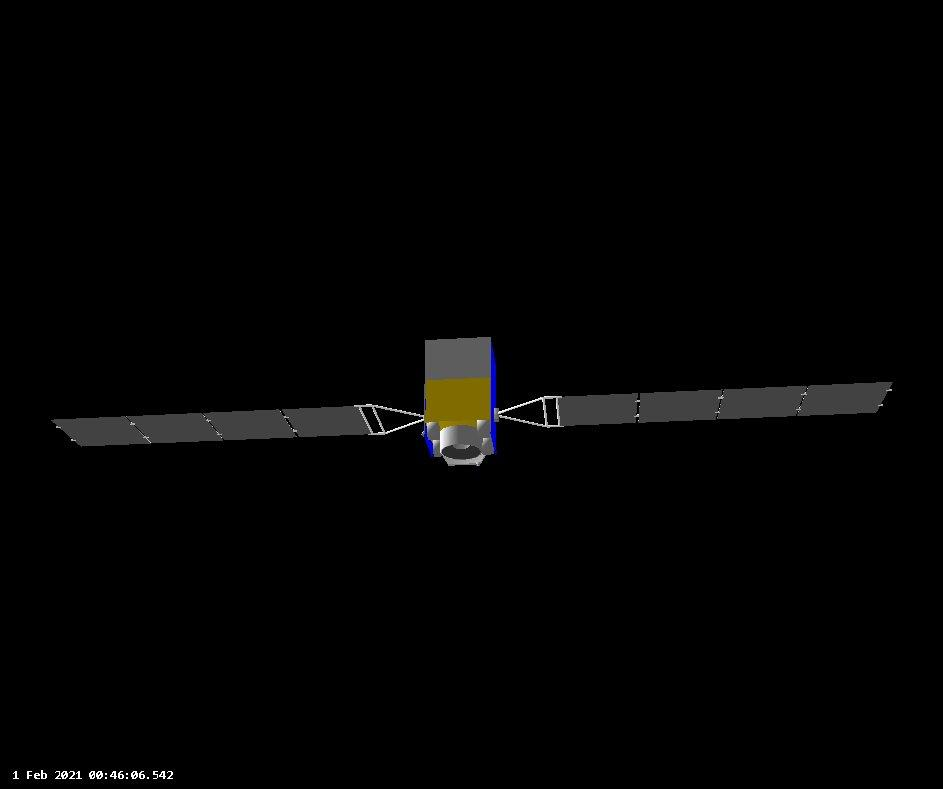body: (421, 334, 499, 456), (438, 421, 484, 460)
solar: (547, 377, 897, 429), (50, 400, 389, 450)
